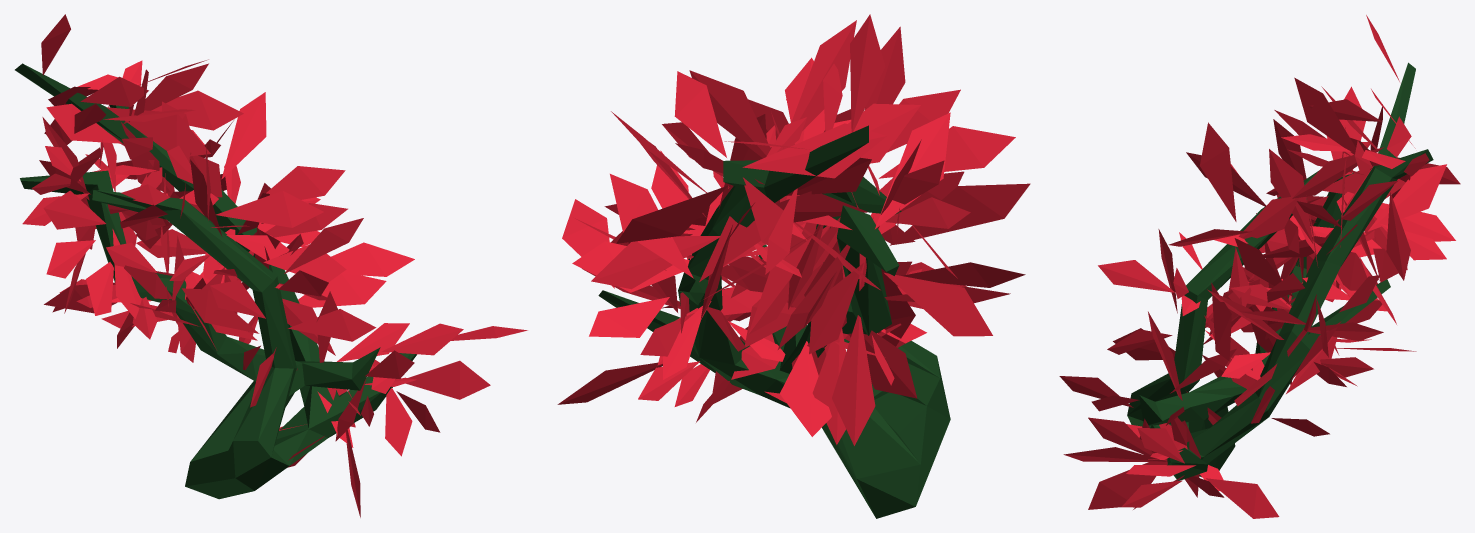
3 views of the same model, side by side, from view 1: azimuth 30°, elevation 25°; view 2: azimuth 150°, elevation 25°; view 3: azimuth 270°, elevation 25° (orthographic). The views are drawn at different scales.
Parts seen in each view (by area): view 1: Cube; view 2: Cube; view 3: Cube.
Boxes of the visible parts, x1=… form: Cube: x1=15, y1=14, x2=527, y2=517; Cube: x1=557, y1=14, x2=1030, y2=518; Cube: x1=1059, y1=15, x2=1460, y2=518.
Bounding box in the file's own units: 1747 × 1817 × 1531.
